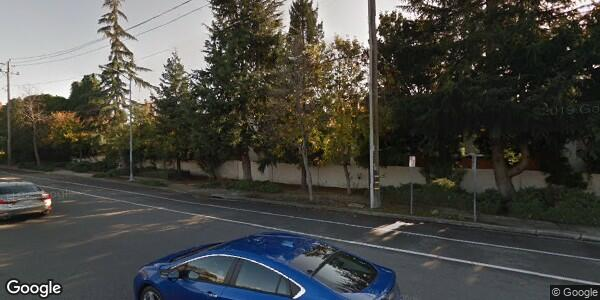Steel_Pole: (95, 63, 136, 181)
Wood_Pole: (364, 1, 383, 209), (1, 55, 21, 166)
